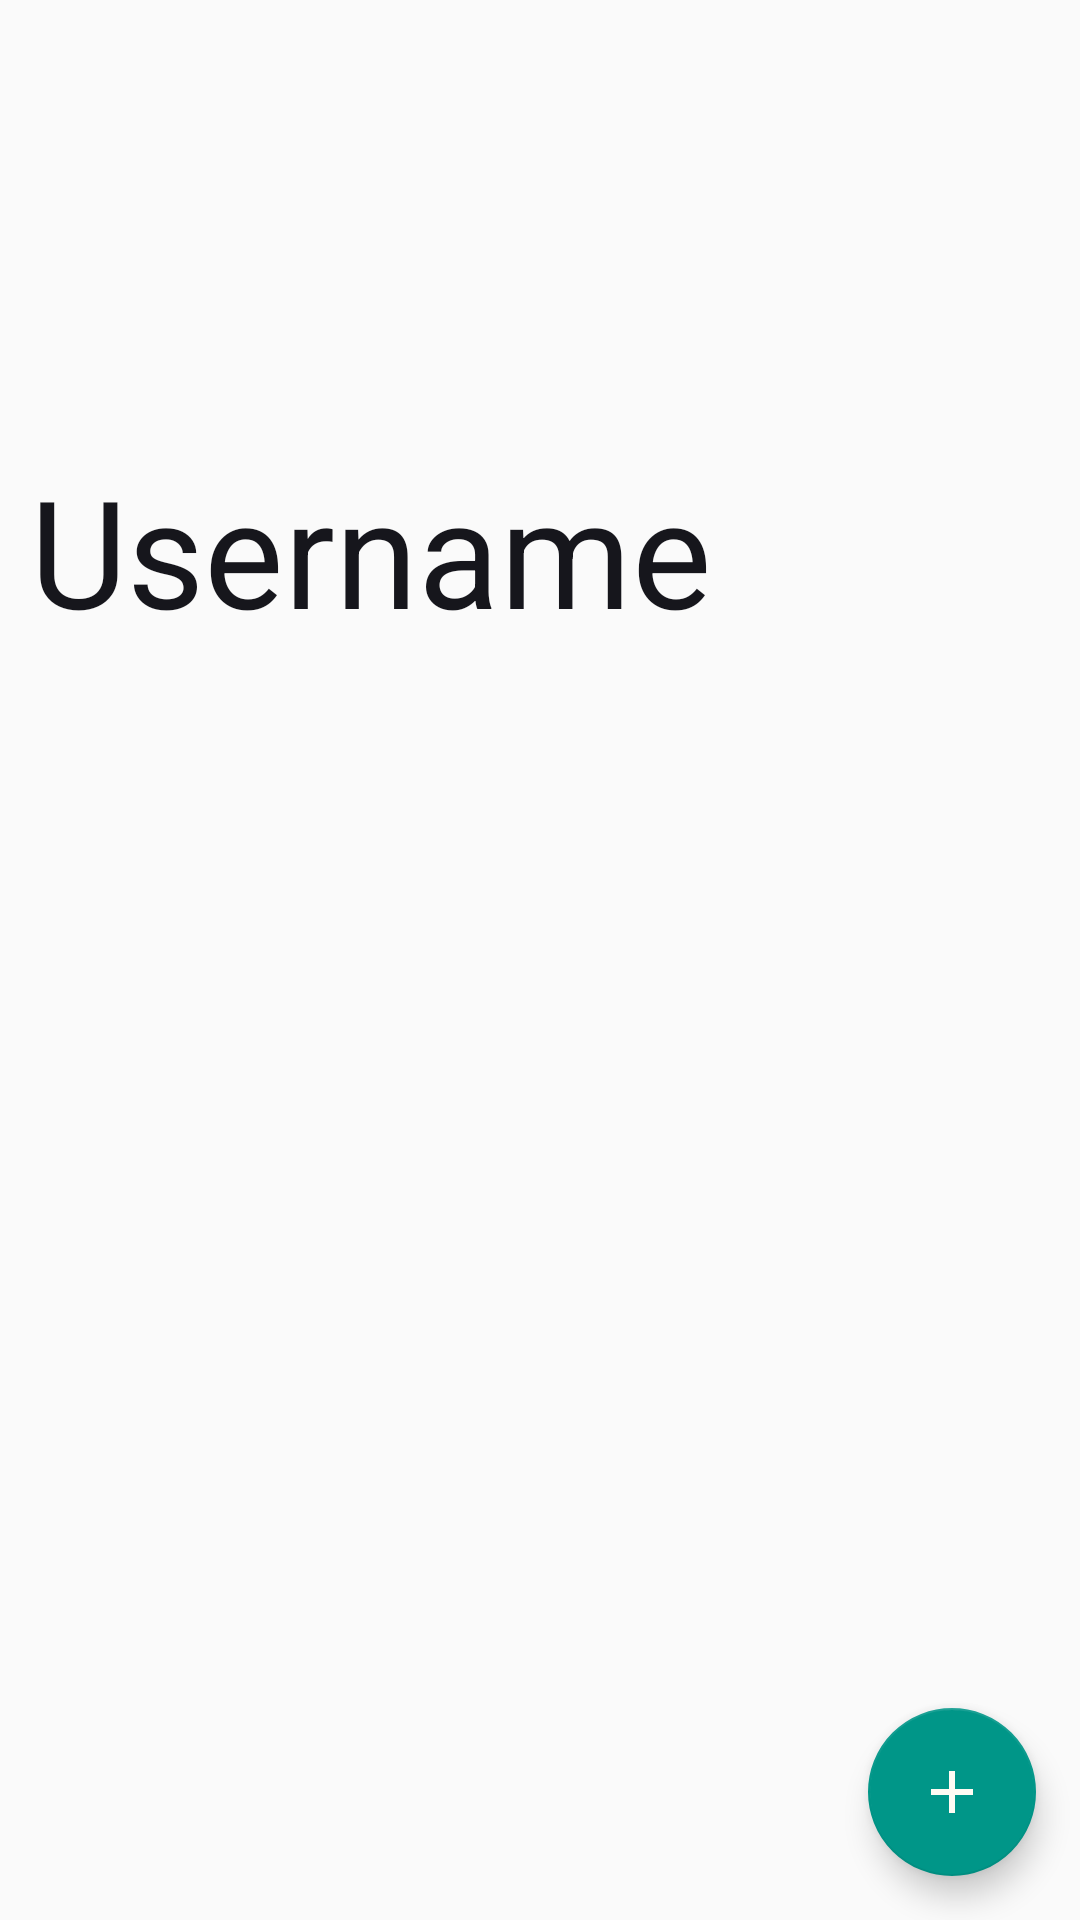

Icon bounding boxes for this 1080 x 1920 phone screenshot, format bbox=[x1, y1, x2, y2]:
add: bbox=[868, 1708, 1036, 1876]
